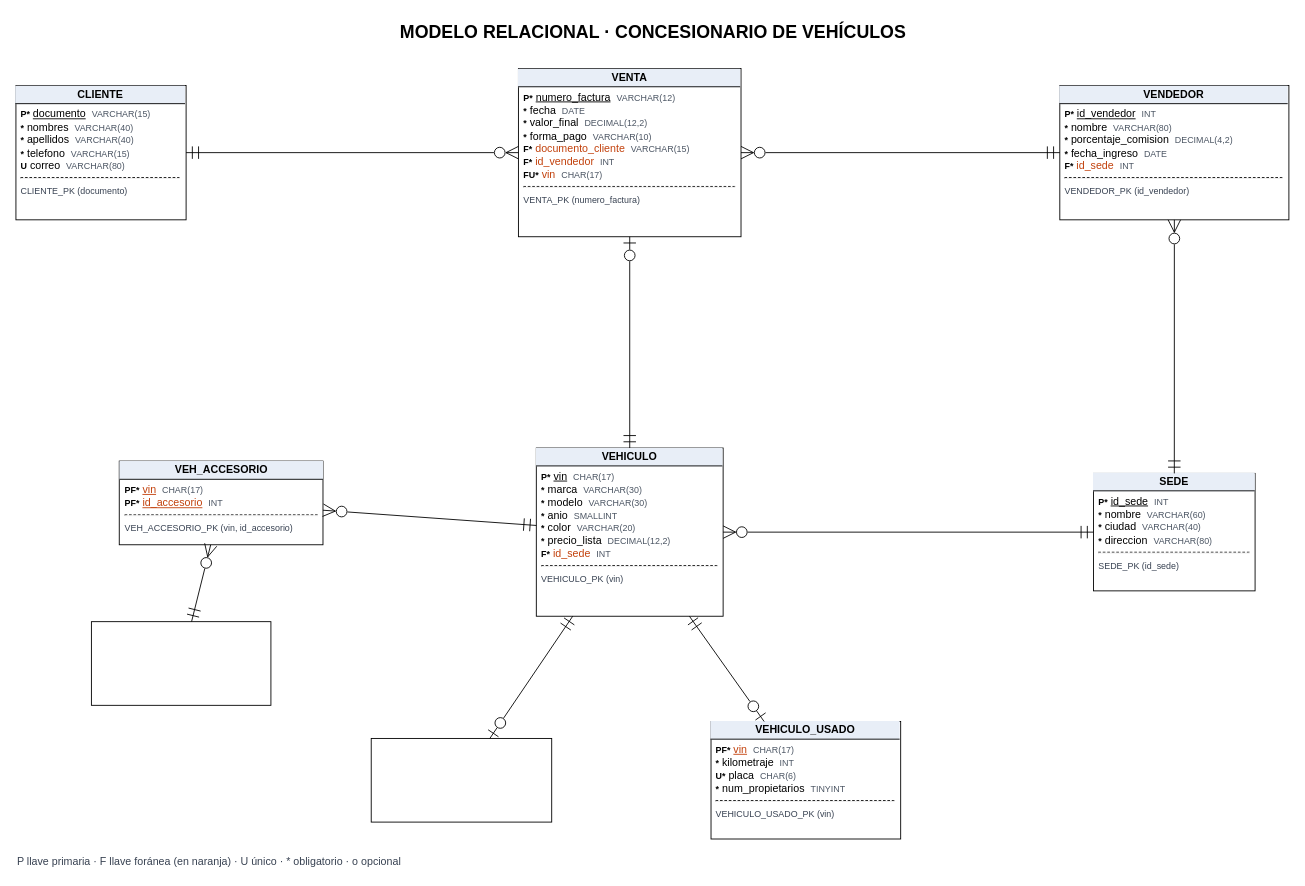
This 1305x886 diagram has some shape labels left out. Here are the shapes that lost their labels. From the top down, the centre of each, then its label:
pixel 181 663: ACCESORIO P* id_accesorio INT * nombre VARCHAR(40) ACCESORIO_PK (id_accesorio)
pixel 461 780: VEHICULO_NUEVO PF* vin CHAR(17) * garantia_meses TINYINT VEHICULO_NUEVO_PK (vin)
